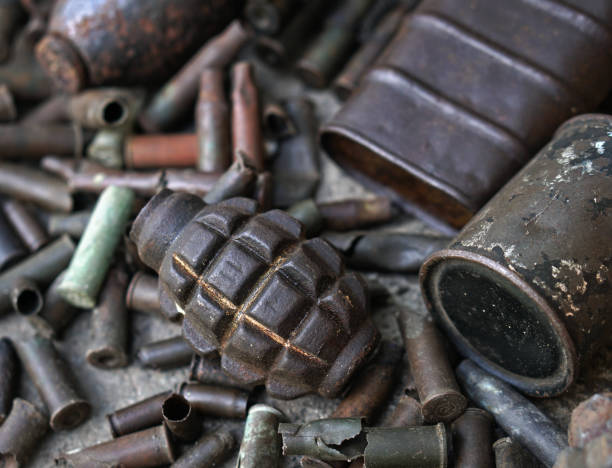e1: (134, 186, 379, 397)
